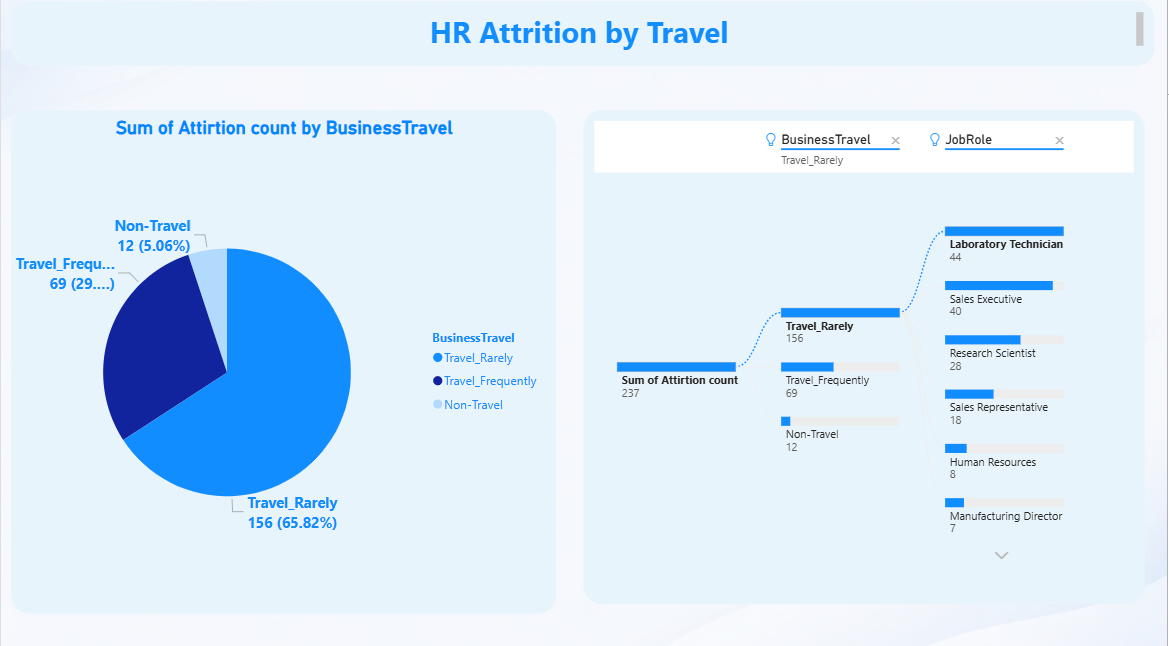

The page's visual inventory and layout, read from the dashboard file:
{"tool":"powerbi","page":{"name":"Attrition by Travel","canvas":[1280,720],"ordinal":1},"visuals":[{"type":"textbox","box":[11,12.3,1255.6,71.4],"z":0},{"type":"pieChart","fields":{"Category":["HR_Analytics.BusinessTravel"],"Y":["Sum(HR_Analytics.Attirtion count)"]},"box":[11,131.7,598.3,553],"z":1000},{"type":"decompositionTreeVisual","fields":{"Analyze":["Sum(HR_Analytics.Attirtion count)"],"ExplainBy":["HR_Analytics.BusinessTravel","HR_Analytics.JobRole"]},"box":[639.5,131.7,616.1,542],"z":2000}]}

Visuals, with their boxes in screenshot pixels (x1, y1, x2, y2), scaled from the page's 1280x720 canvas onto the 1169x646 screenshot:
textbox: 10/11/1157/75
pieChart - HR_Analytics.BusinessTravel x Sum(HR_Analytics.Attirtion count): 10/118/556/614
decompositionTreeVisual - Sum(HR_Analytics.Attirtion count) x HR_Analytics.BusinessTravel: 584/118/1147/604
